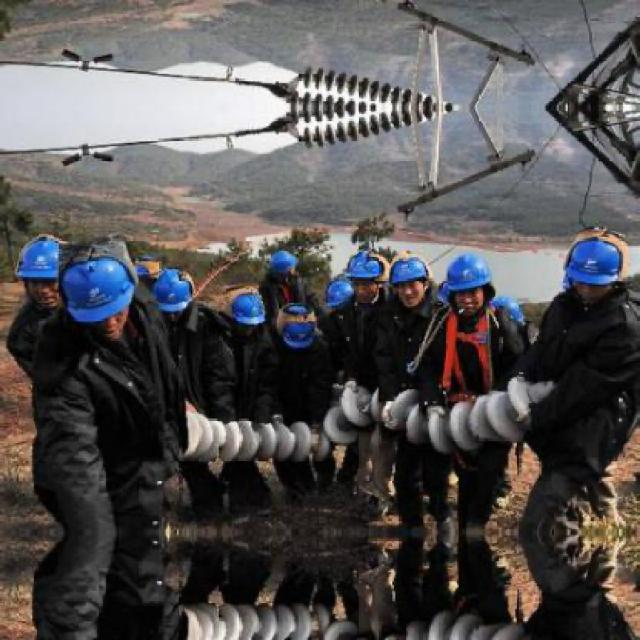helmet: (61, 249, 136, 326), (562, 231, 626, 300), (14, 232, 64, 311), (443, 250, 497, 318), (391, 252, 434, 305), (349, 245, 386, 303), (274, 303, 315, 354), (152, 269, 194, 314), (231, 289, 266, 325), (328, 278, 354, 320), (271, 248, 298, 288)
